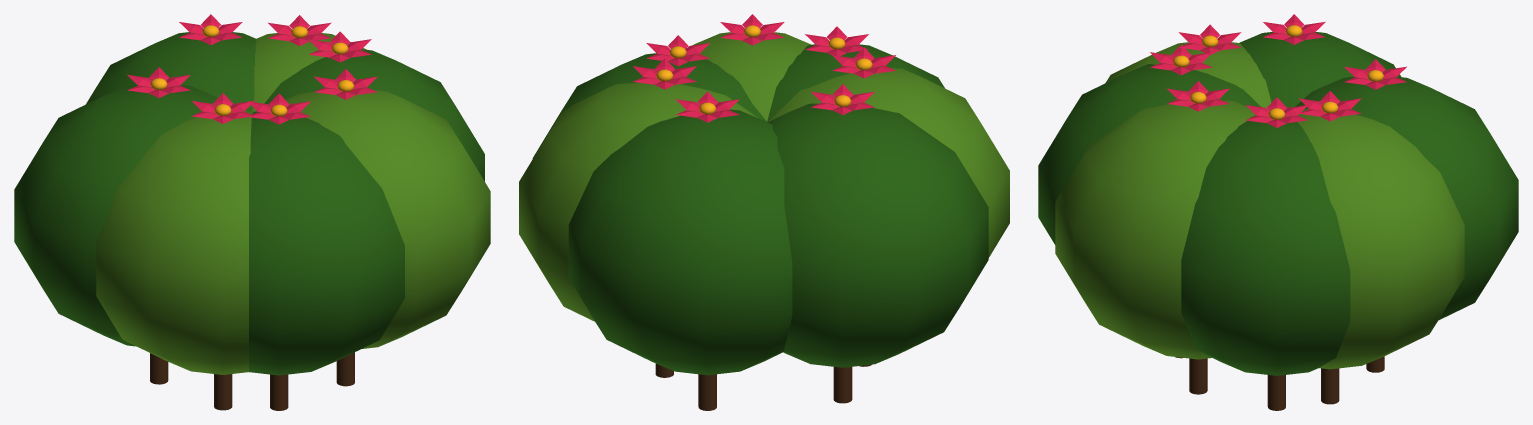
File: Rozsabokor.obj
3 views of the same model, side by side, from view 1: azimuth 30°, elevation 25°; view 2: azimuth 150°, elevation 25°; view 3: azimuth 270°, elevation 25° (orthographic).
Bounding box in the file's own units: 1.32 × 0.896 × 1.31.
